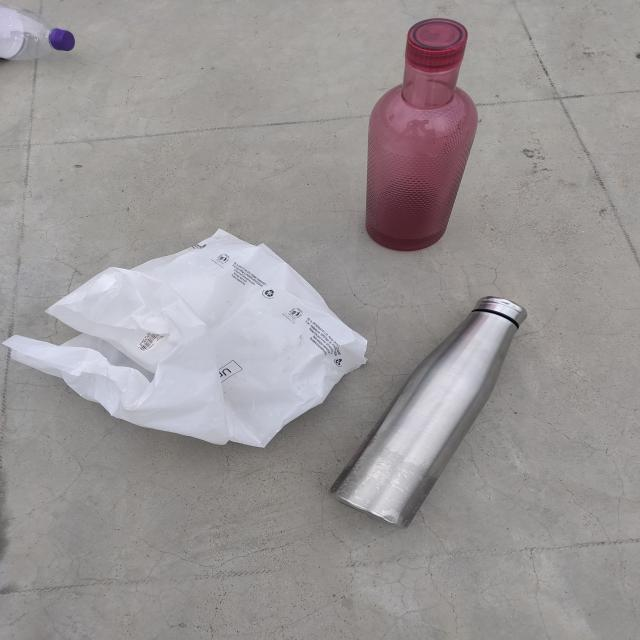metal: (340, 283, 525, 574)
plastic: (19, 218, 364, 460), (325, 11, 559, 253)
